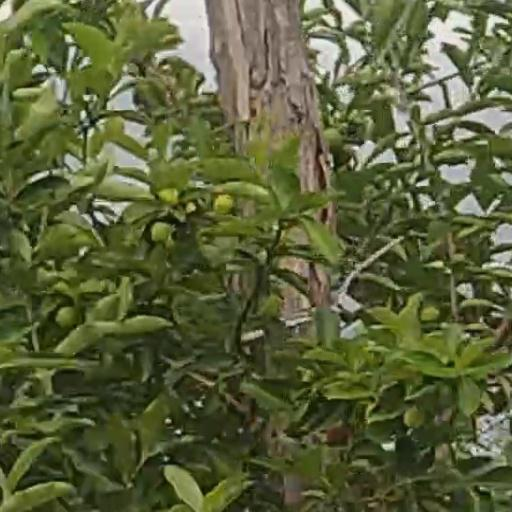acerola: (325, 421, 350, 445), (56, 307, 81, 330)
